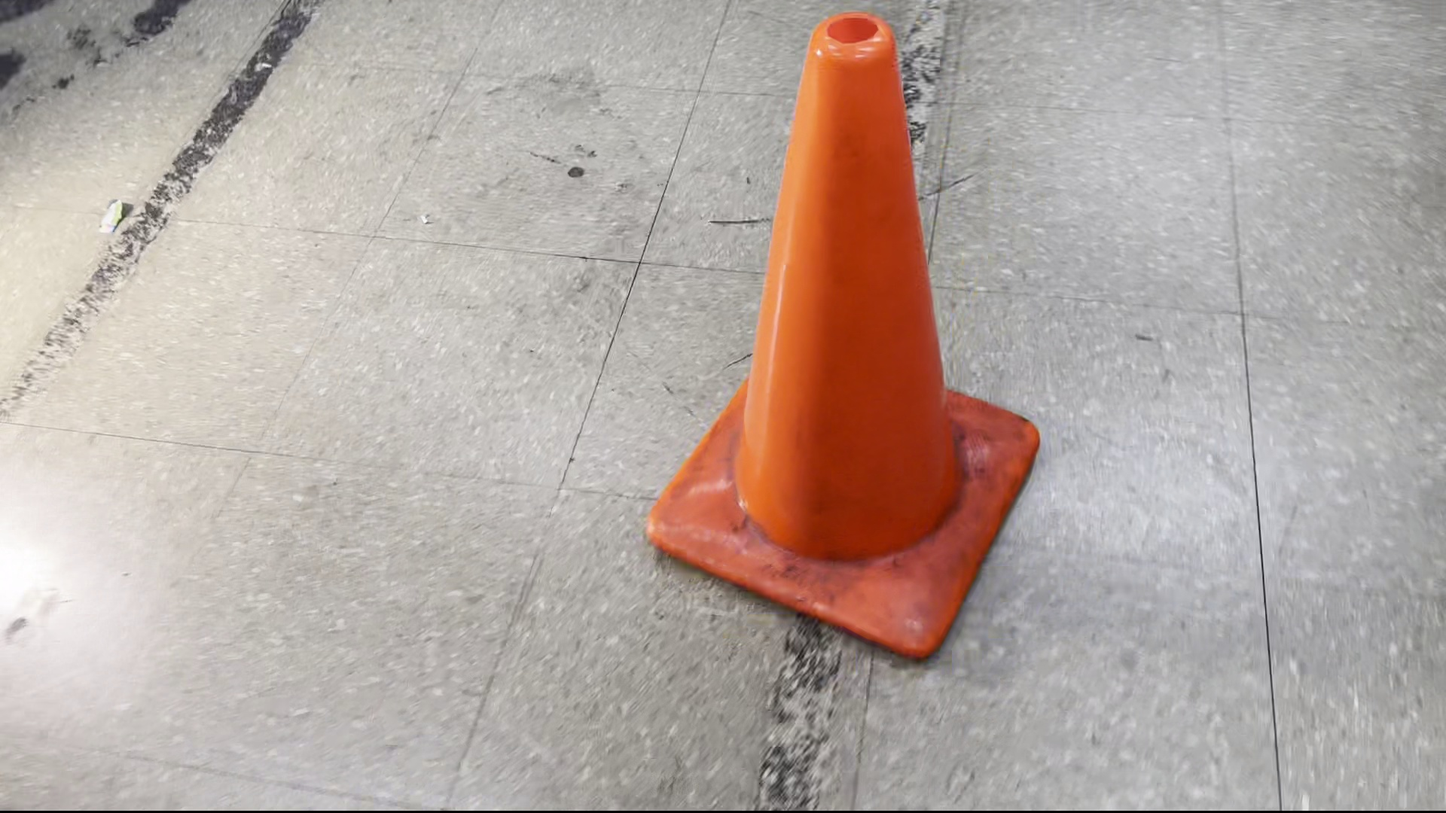traffic_cone: (645, 10, 1041, 661)
